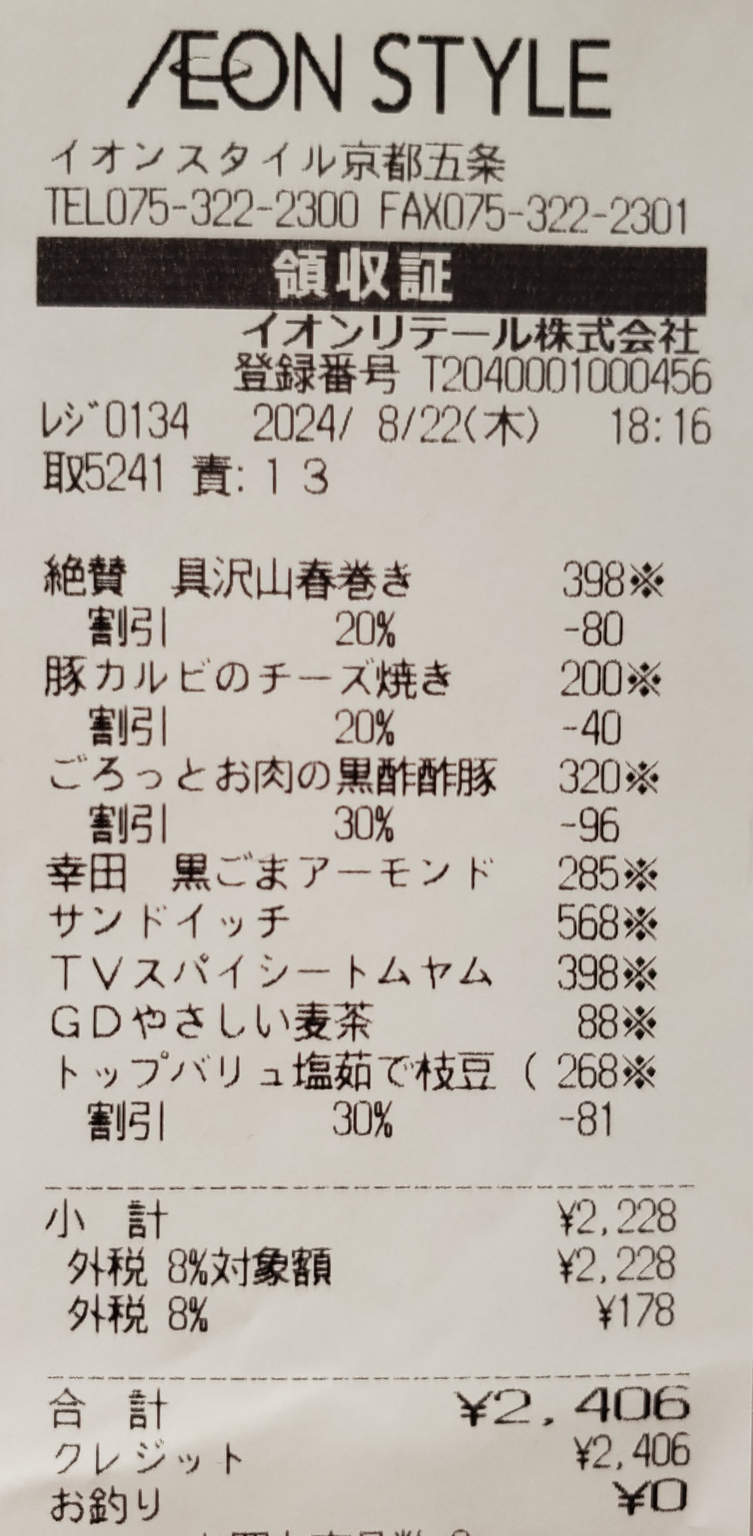Date: (249, 398, 466, 449)
Shopname: (102, 13, 633, 129)
Telnum: (102, 180, 367, 240)
Totalpay: (47, 1383, 702, 1436)
